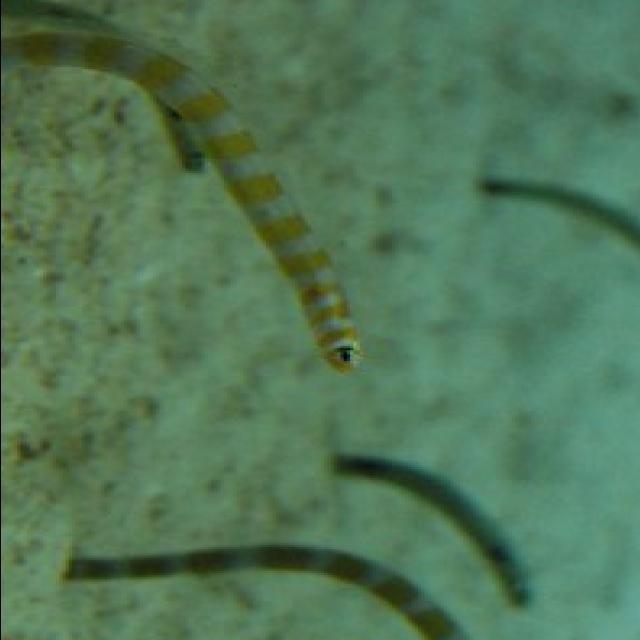Snake: (1, 0, 372, 379)
